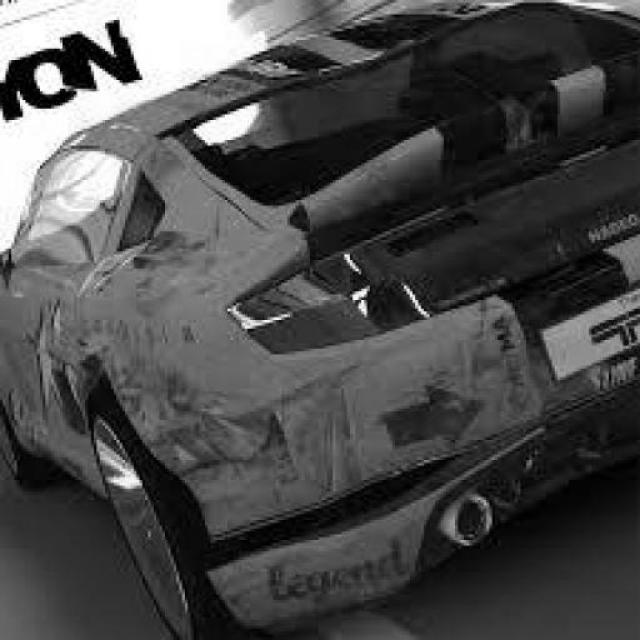crush: (69, 0, 640, 640)
